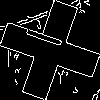I: (25, 25, 72, 53)
